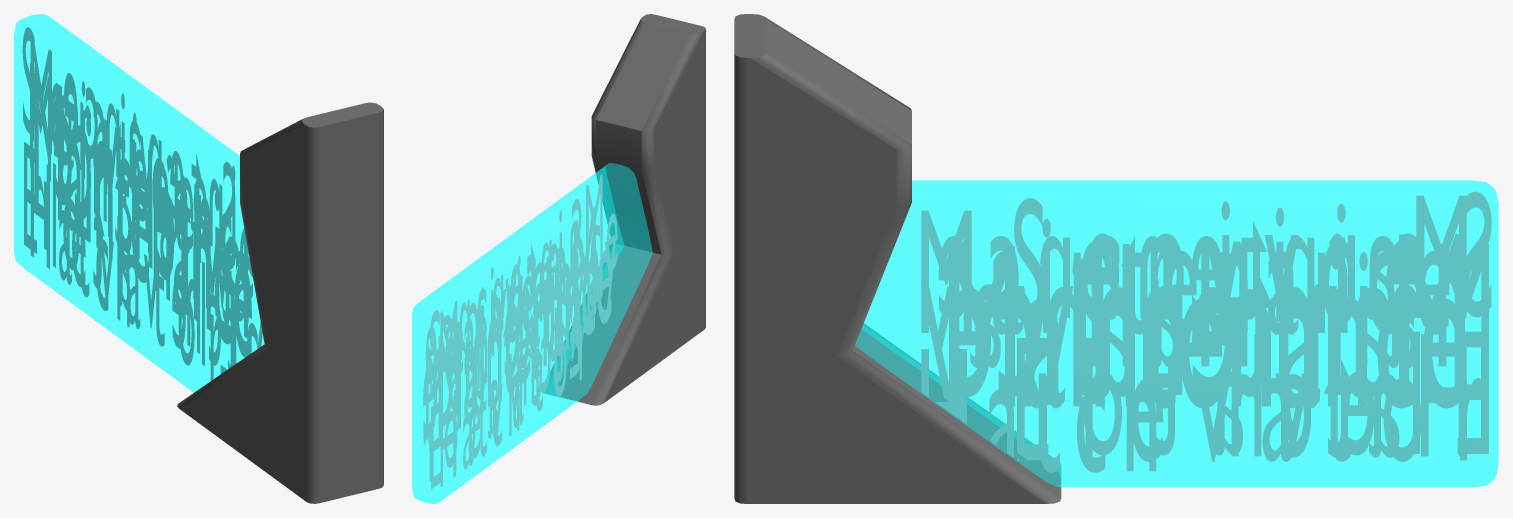
Rendered from Signpost.fbx.
3 renders of one model, left to right at view 1: azimuth 30°, elevation 25°; view 2: azimuth 150°, elevation 25°; view 3: azimuth 270°, elevation 25°, orthographic. The views are drawn at different scales.
Parts seen in each view (by area): view 1: LED_Holder, Maintenance_hatch, Agri - Service Elevator, Maintenance, Hallway; view 2: LED_Holder, Maintenance_hatch, Maintenance, Agri - Service Elevator, Hallway; view 3: LED_Holder, Maintenance, Maintenance_hatch, Agri - Service Elevator, Hallway.
Boxes of the visible parts, <box> form: LED_Holder: <box>14,14,383,503</box>; Maintenance_hatch: <box>30,36,257,368</box>; Agri - Service Elevator: <box>22,27,234,380</box>; Maintenance: <box>34,67,251,357</box>; Hallway: <box>30,63,262,348</box>; LED_Holder: <box>412,14,705,503</box>; Maintenance_hatch: <box>425,174,617,486</box>; Maintenance: <box>423,206,611,436</box>; Agri - Service Elevator: <box>423,199,587,489</box>; Hallway: <box>426,241,615,427</box>; LED_Holder: <box>734,14,1498,503</box>; Maintenance: <box>949,234,1464,408</box>; Maintenance_hatch: <box>921,195,1466,472</box>; Agri - Service Elevator: <box>1014,191,1491,461</box>; Hallway: <box>929,244,1488,401</box>.
Bounding box in the file's own units: 0.6363 × 3.01 × 4.68.
